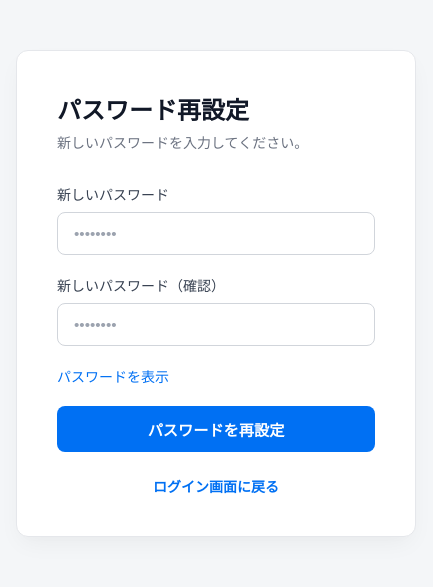
it: ResetPasswordForm パスワード再設定処理 › 再設定トークンが正しくない場合、エラーを表示すること
In the password field labelled "新しいパスワード": (216, 233) [57, 212, 375, 254], type "password123"
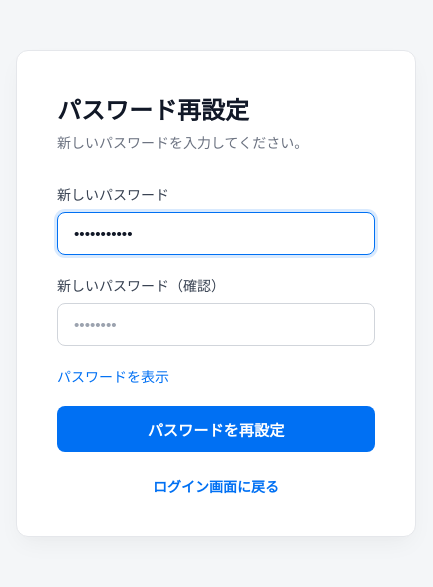
In the password field labelled "新しいパスワード（確認）": (216, 324) [57, 302, 375, 346], type "password123"
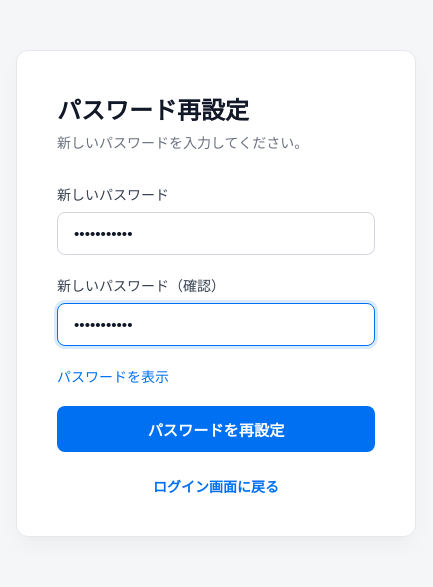
Click the button "パスワードを再設定": (216, 428) [57, 406, 375, 452]
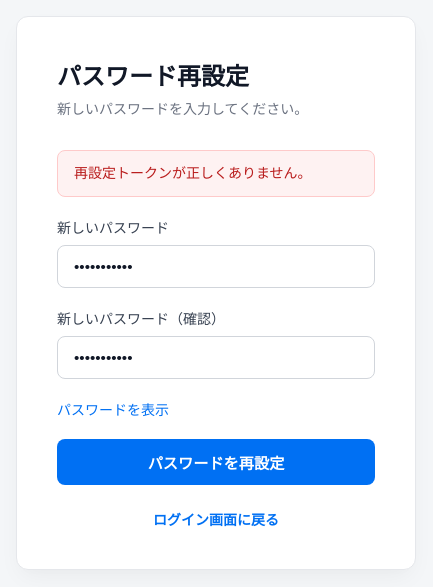
Result: the message reads "再設定トークンが正しくありません。" at [74, 165, 312, 181]
In the password field labelled "新しいパスワード": (216, 266) [57, 245, 375, 288], type "4"
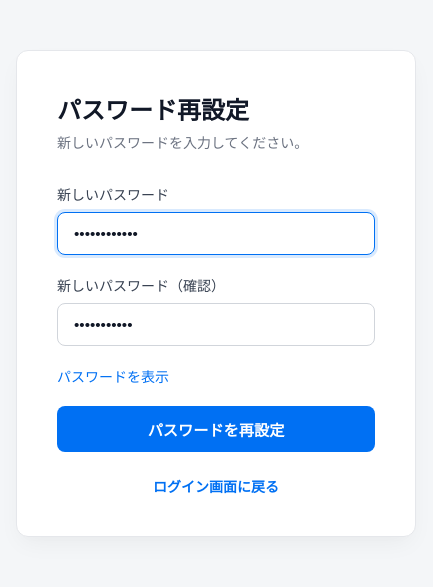
Result: the message "再設定トークンが正しくありません。" is gone
